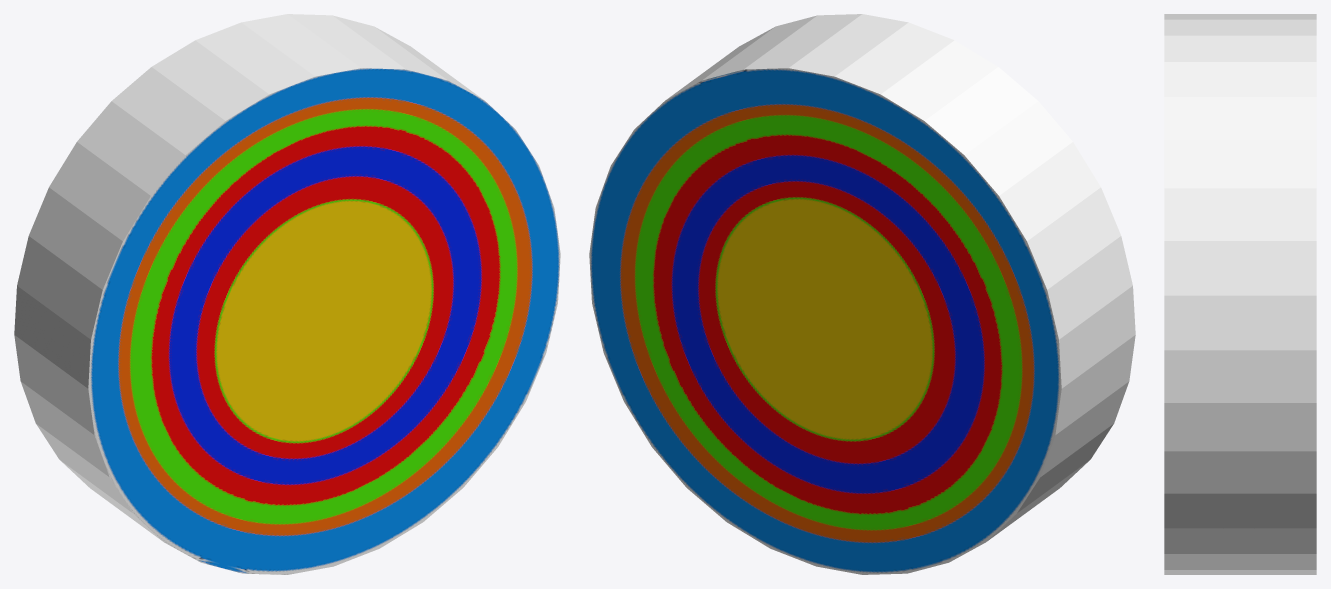
Rendered from accelleratordetector.obj.
3 renders of one model, left to right at view 1: azimuth 30°, elevation 25°; view 2: azimuth 150°, elevation 25°; view 3: azimuth 270°, elevation 25°, orthographic. The views are drawn at different scales.
Visible parts, largest first — view 1: Cylinder; view 2: Cylinder; view 3: Cylinder.
Boxes of the visible parts, left/top/right/bottom form: Cylinder: left=14, top=14, right=560, bottom=574; Cylinder: left=589, top=14, right=1135, bottom=574; Cylinder: left=1164, top=14, right=1316, bottom=574.
Size of the model in its own units: 11.94 by 11.94 by 3.24.
